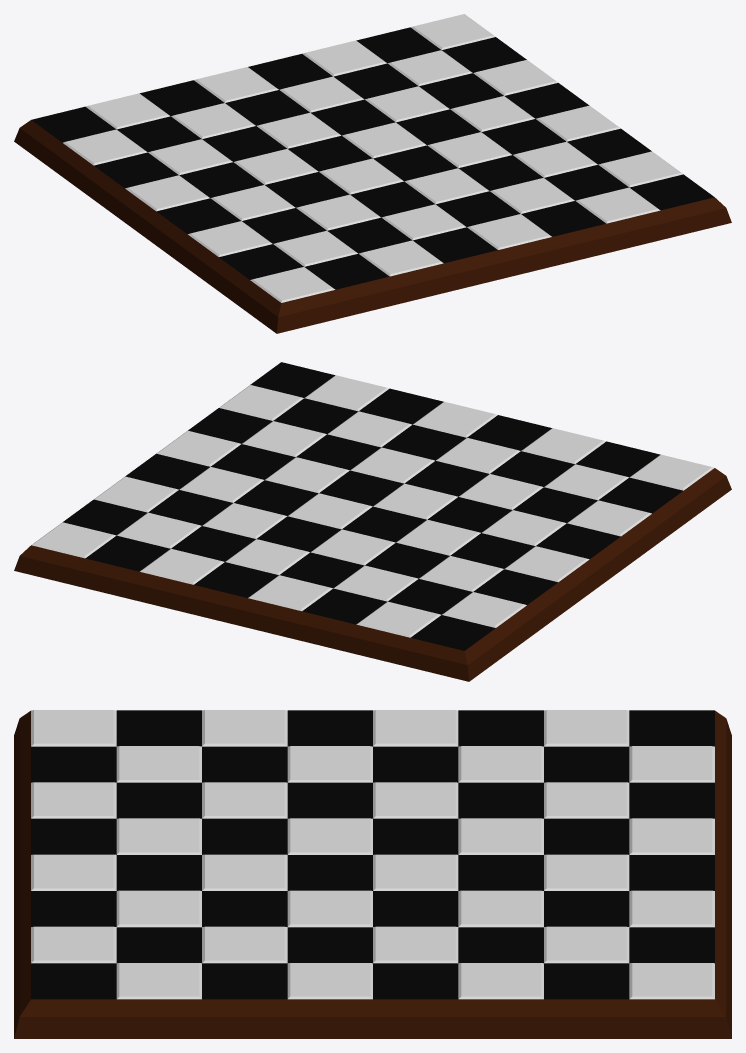
Rendered from Schachbrett.fbx.
3 renders of one model, top to bottom at view 1: azimuth 30°, elevation 25°; view 2: azimuth 150°, elevation 25°; view 3: azimuth 270°, elevation 25°, orthographic. The views are drawn at different scales.
Parts seen in each view (by area): view 1: Cube.005; view 2: Cube.005; view 3: Cube.005.
Part boxes in pixels (left/top/right/bottom): Cube.005: left=14, top=14, right=731, bottom=333; Cube.005: left=14, top=362, right=731, bottom=681; Cube.005: left=14, top=710, right=731, bottom=1038.
Size of the model in its own units: 4211 by 219 by 4211.
